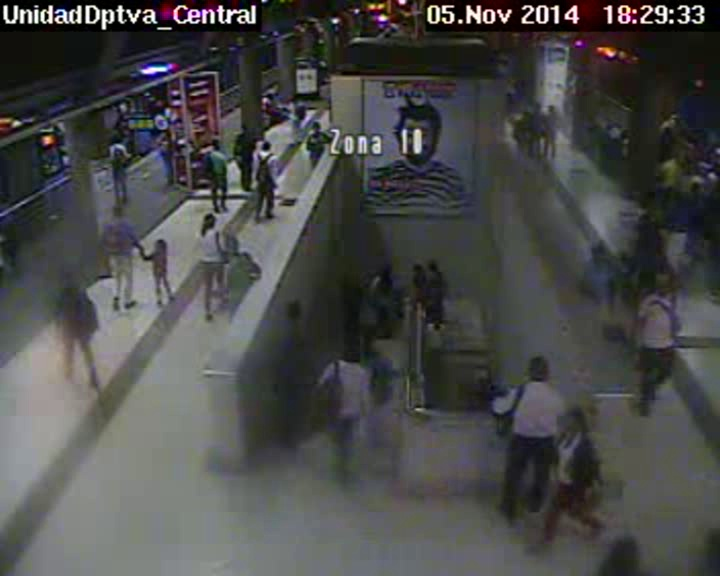person: (561, 408, 587, 436), (526, 355, 551, 380), (649, 272, 672, 295), (284, 299, 305, 320), (587, 243, 608, 263), (222, 233, 241, 254), (339, 343, 359, 362), (63, 267, 80, 283), (203, 212, 218, 230), (637, 212, 655, 227), (110, 203, 127, 218), (706, 143, 720, 161), (378, 263, 394, 277), (154, 238, 168, 251), (308, 122, 323, 134), (210, 139, 223, 152), (410, 264, 424, 276), (239, 124, 251, 137), (261, 141, 273, 153), (112, 134, 124, 146), (426, 260, 438, 272), (669, 114, 680, 126), (670, 150, 680, 162), (270, 82, 280, 93), (533, 103, 543, 113), (519, 111, 528, 121), (549, 103, 557, 112), (162, 121, 169, 131), (295, 99, 303, 107)
